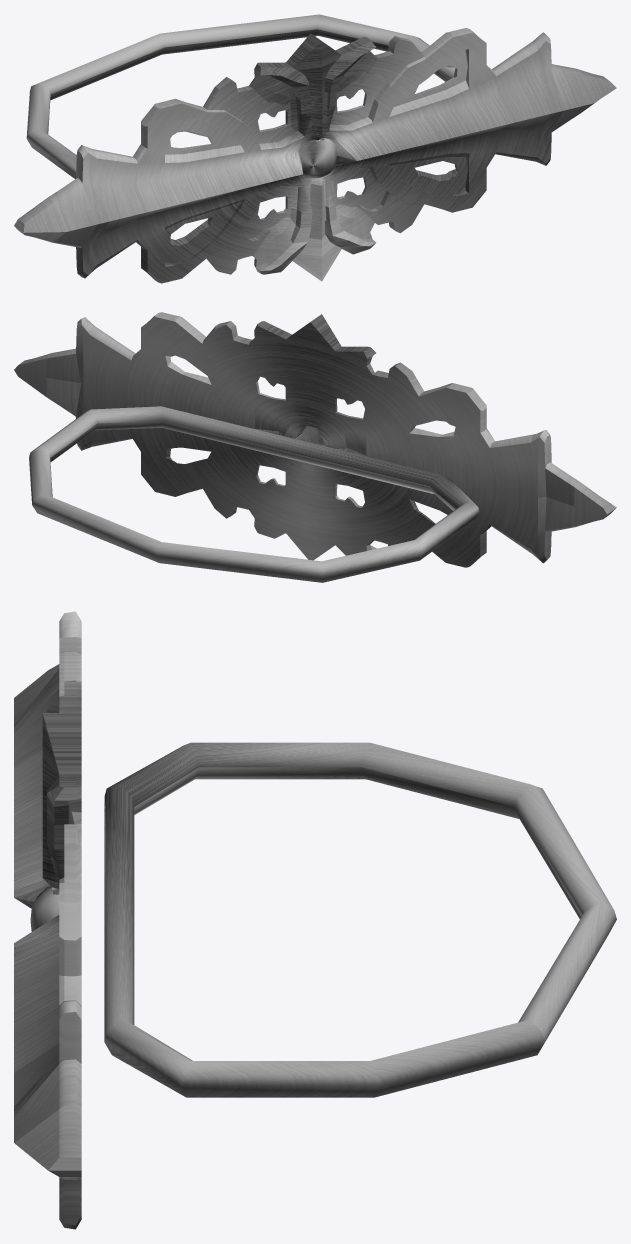
The model's file is Silver Floral ring.fbx.
3 views of the same model, one above another, from view 1: azimuth 30°, elevation 25°; view 2: azimuth 150°, elevation 25°; view 3: azimuth 270°, elevation 25° (orthographic). The views are drawn at different scales.
Parts seen in each view (by area): view 1: silverfloralcrosslongring, pTorus1, pSphere1; view 2: silverfloralcrosslongring, pTorus1; view 3: pTorus1, silverfloralcrosslongring, pSphere1.
Part boxes in pixels (x1=…): silverfloralcrosslongring: x1=14, y1=28, x2=616, y2=283; pTorus1: x1=26, y1=14, x2=455, y2=179; pSphere1: x1=299, y1=138, x2=336, y2=178; silverfloralcrosslongring: x1=14, y1=312, x2=616, y2=567; pTorus1: x1=29, y1=406, x2=479, y2=582; pTorus1: x1=104, y1=742, x2=616, y2=1097; silverfloralcrosslongring: x1=14, y1=611, x2=81, y2=1229; pSphere1: x1=30, y1=886, x2=59, y2=931.
Bounding box in the file's own units: 5.25 × 2.03 × 2.68.
